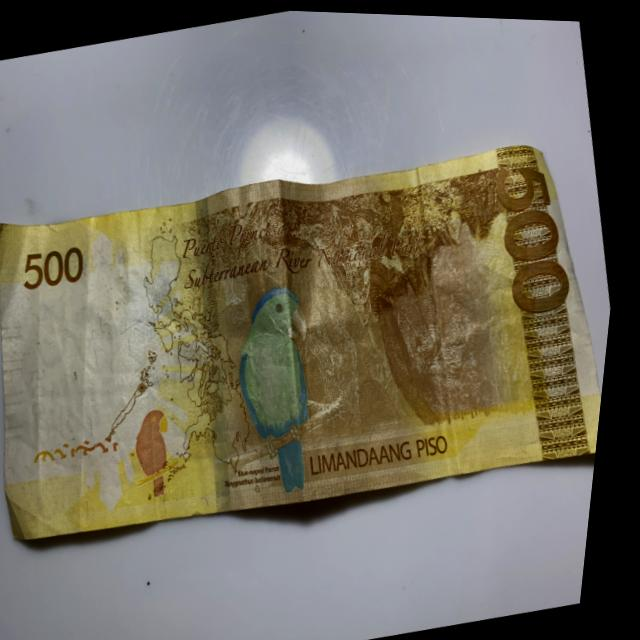500_big_parrot: (221, 281, 355, 497)
500_parrot_watermark: (133, 405, 201, 504)
value_watermark: (23, 358, 63, 424)
